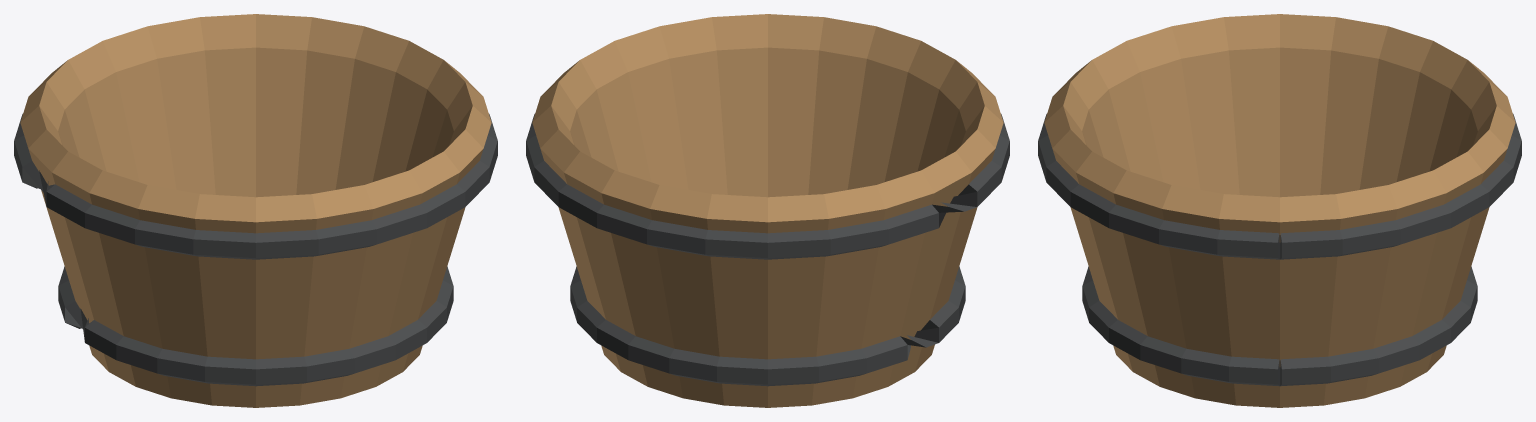
File: basin.glb
3 renders of one model, left to right at view 1: azimuth 30°, elevation 25°; view 2: azimuth 150°, elevation 25°; view 3: azimuth 270°, elevation 25°, orthographic.
Parts seen in each view (by area): view 1: Wash basin • coopered cedar.001; view 2: Wash basin • coopered cedar.001; view 3: Wash basin • coopered cedar.001.
Part boxes in pixels (left/top/right/bottom): Wash basin • coopered cedar.001: left=14, top=14, right=497, bottom=407; Wash basin • coopered cedar.001: left=526, top=14, right=1009, bottom=407; Wash basin • coopered cedar.001: left=1038, top=14, right=1521, bottom=407.
Bounding box in the file's own units: 0.513 × 0.27 × 0.5132.
